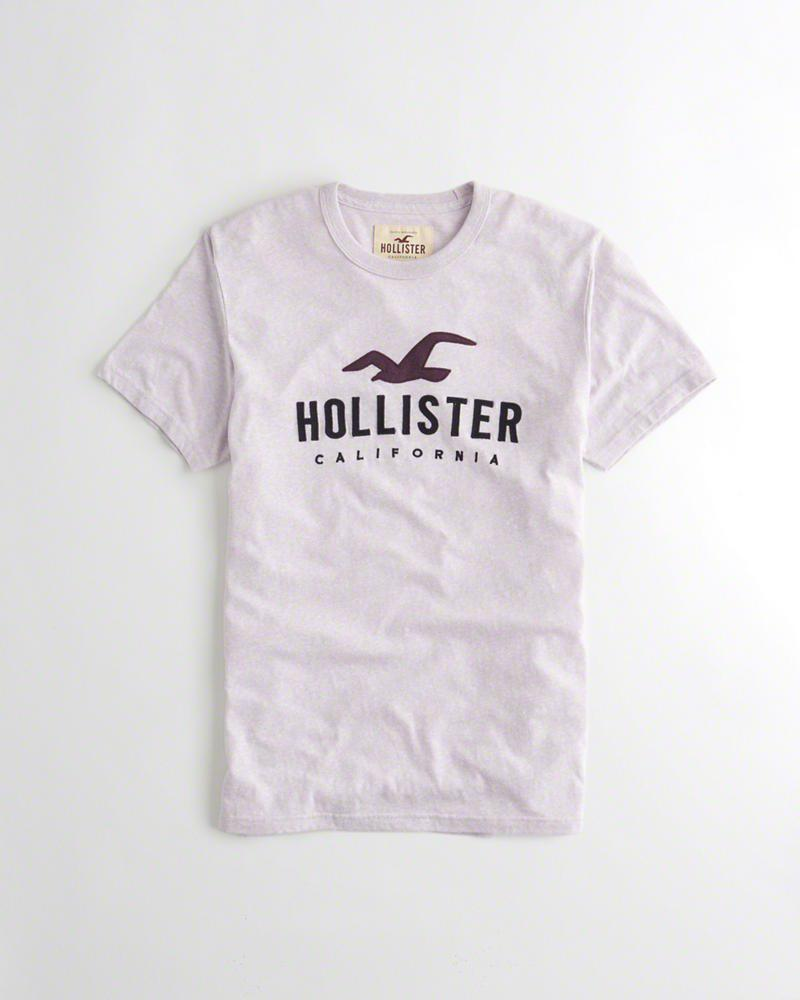teeshirt: (67, 165, 742, 868)
